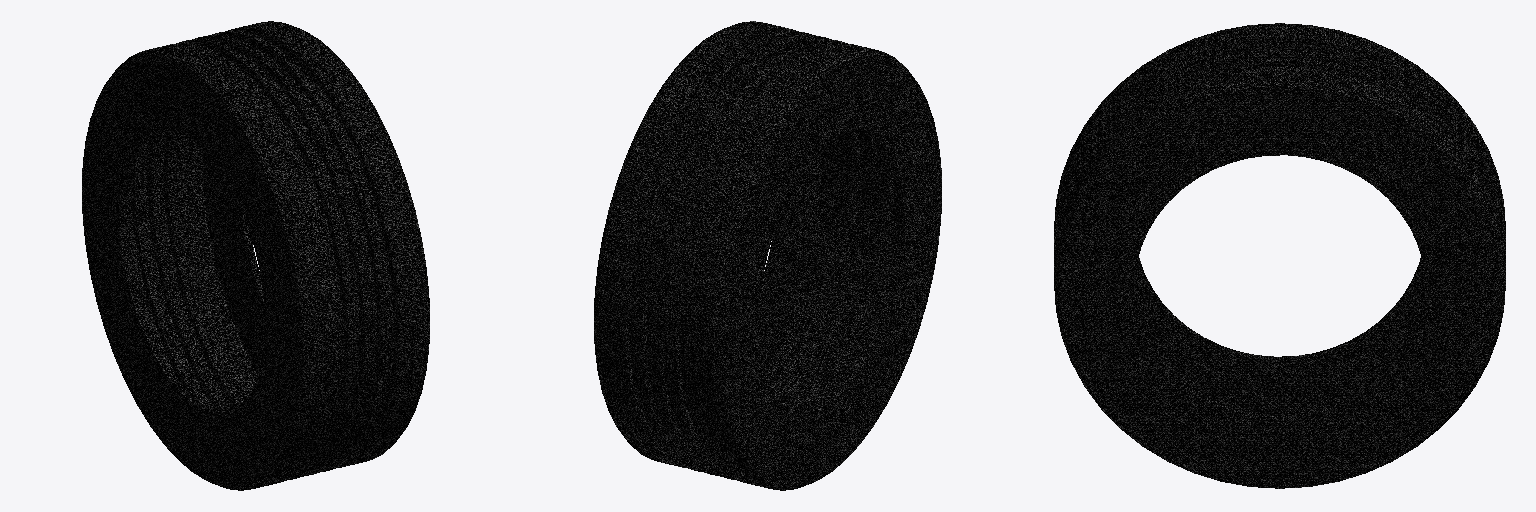
The picture shows the model from 3 angles: view 1: azimuth 30°, elevation 25°; view 2: azimuth 150°, elevation 25°; view 3: azimuth 270°, elevation 25°; orthographic projection.
Parts seen in each view (by area): view 1: Mesh1 Model; view 2: Mesh1 Model; view 3: Mesh1 Model.
Part boxes in pixels (x1,y1,x2,y2): Mesh1 Model: (82, 21, 429, 490); Mesh1 Model: (594, 21, 941, 490); Mesh1 Model: (1054, 23, 1505, 488).
Size of the model in its own units: 0.2611 by 0.8048 by 0.8048.
Materials: 1 (1 with a texture image).